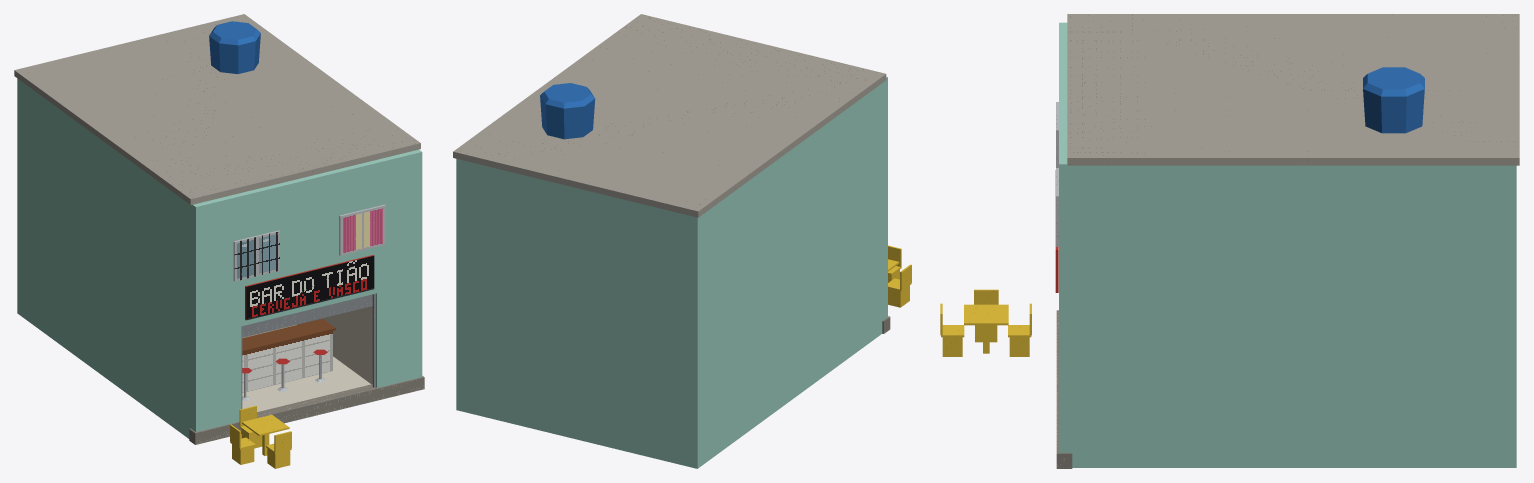
Rendered from bar_do_tiao_aberto.glb.
3 views of the same model, side by side, from view 1: azimuth 30°, elevation 25°; view 2: azimuth 150°, elevation 25°; view 3: azimuth 270°, elevation 25° (orthographic). The views are drawn at different scales.
Visible parts, largest first — view 1: bar_do_ze_aberto-col; view 2: bar_do_ze_aberto-col; view 3: bar_do_ze_aberto-col.
Part boxes in pixels (box(x1,y1,x2,y2)): bar_do_ze_aberto-col: box(14, 14, 424, 468); bar_do_ze_aberto-col: box(453, 14, 911, 468); bar_do_ze_aberto-col: box(940, 14, 1519, 468).
Size of the model in its own units: 6.1 by 7 by 10.37.
Materials: 1 (1 with a texture image).
